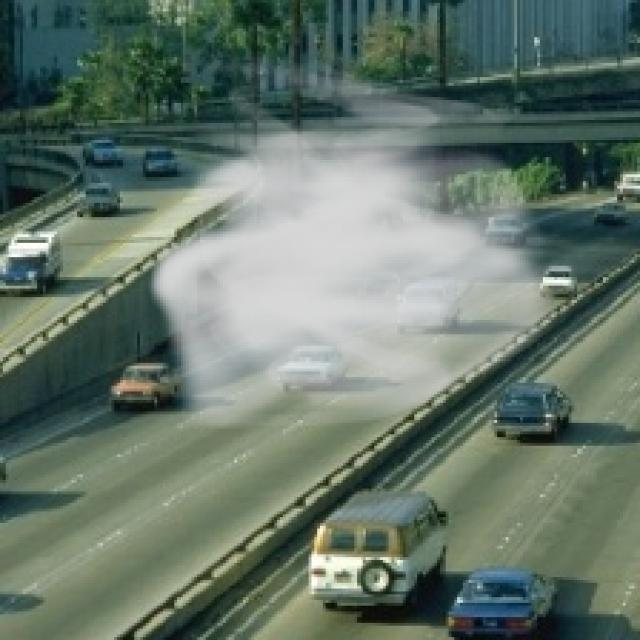Smoke: (146, 51, 568, 440)
